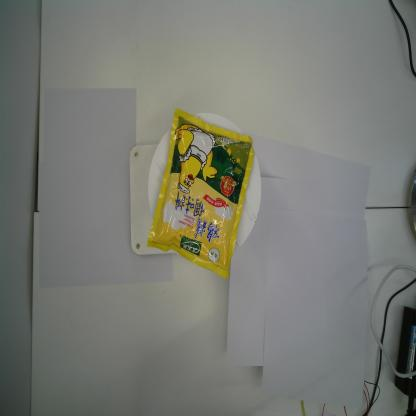Seasoner: (146, 106, 254, 280)
